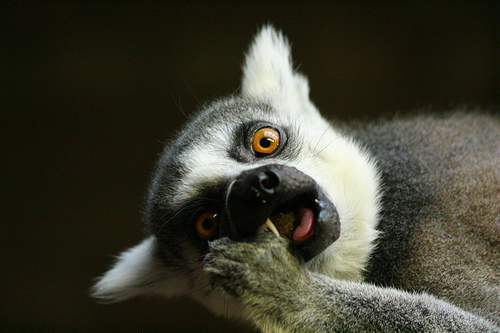cat: (90, 20, 499, 332)
